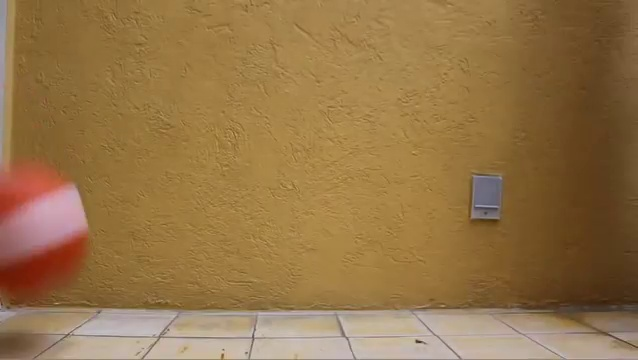ball: (1, 157, 89, 308)
